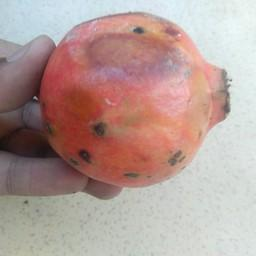Bad_pomegranate: (21, 13, 231, 191)
